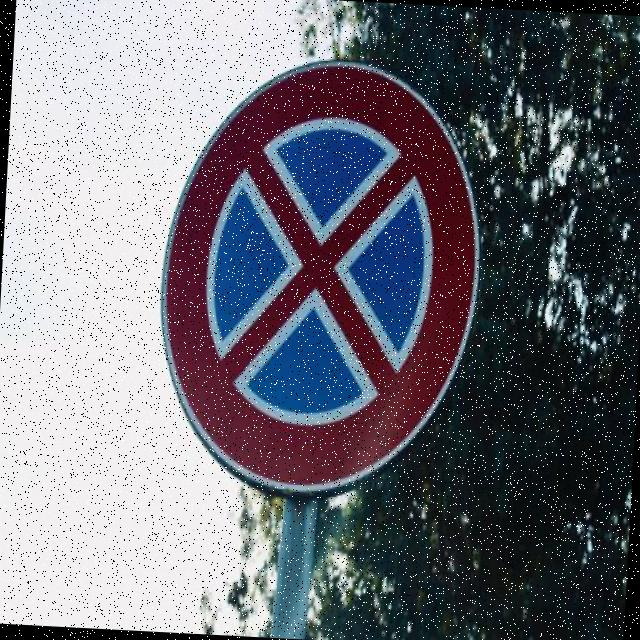no_parking: (148, 42, 497, 510)
